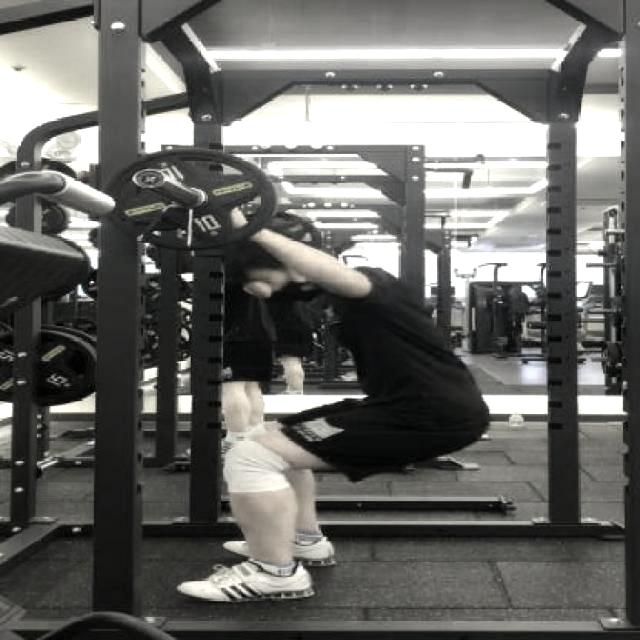barbell: (86, 136, 296, 262)
